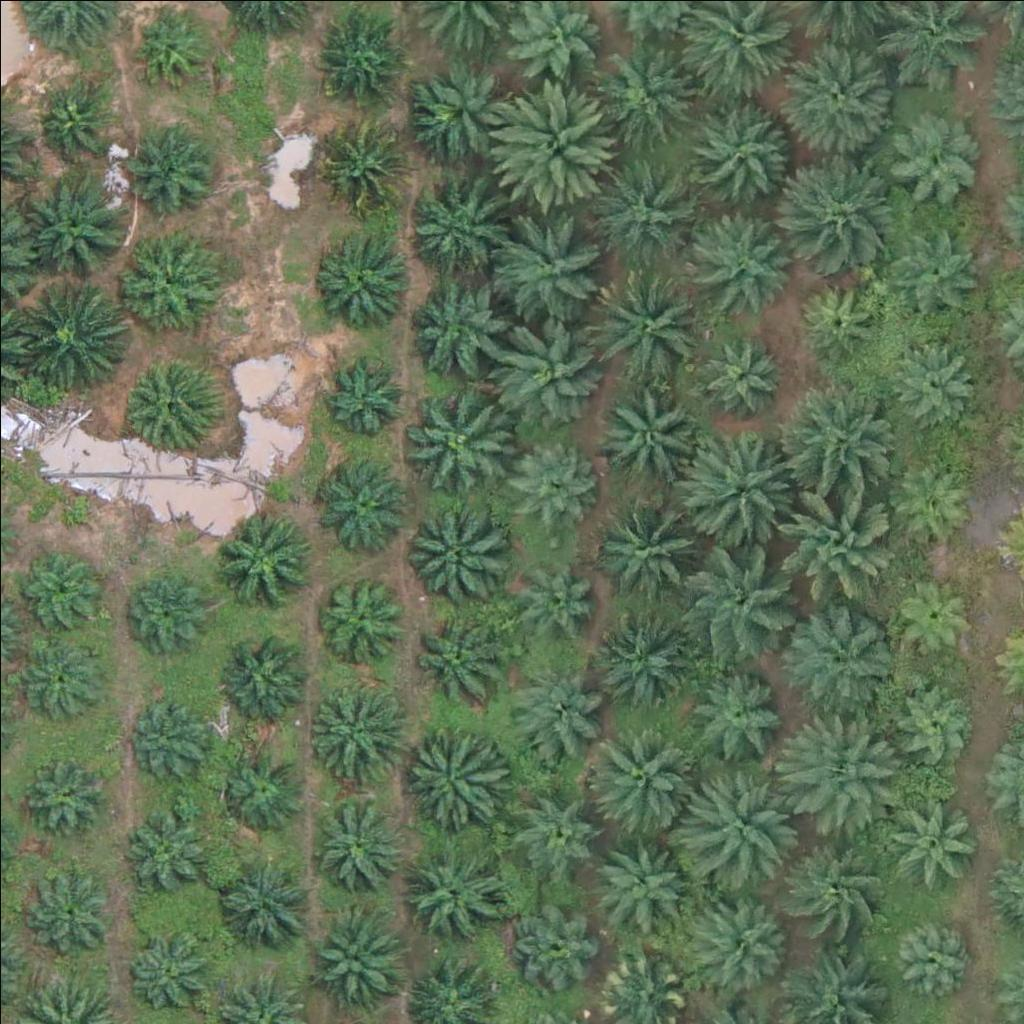Kelapa_Sawit: (485, 80, 610, 206), (495, 214, 608, 328), (594, 485, 707, 599), (593, 267, 706, 380), (589, 155, 702, 268), (682, 100, 795, 213), (785, 39, 898, 152), (16, 273, 129, 386), (401, 384, 514, 497), (677, 540, 790, 653), (778, 382, 891, 495), (488, 309, 601, 422), (396, 498, 508, 612), (679, 762, 791, 876), (773, 477, 885, 591), (690, 199, 802, 312), (788, 148, 900, 261), (582, 717, 694, 830), (683, 435, 795, 548), (786, 604, 898, 717), (786, 719, 898, 832), (782, 832, 894, 945), (28, 176, 128, 277), (308, 234, 408, 335), (401, 175, 501, 276), (598, 46, 698, 147), (210, 852, 310, 953), (214, 620, 314, 721), (213, 504, 313, 605), (304, 676, 404, 777), (404, 836, 504, 937), (404, 720, 504, 821), (595, 382, 695, 483), (589, 831, 689, 932), (690, 670, 790, 771), (879, 786, 979, 887), (117, 234, 217, 334), (406, 269, 506, 369), (416, 69, 516, 169), (883, 111, 983, 211), (119, 349, 219, 449), (304, 910, 404, 1010), (311, 449, 411, 549), (402, 605, 502, 705), (501, 661, 601, 761), (594, 605, 694, 705), (695, 889, 795, 989), (889, 912, 977, 1001), (132, 129, 220, 217), (321, 123, 409, 211), (795, 274, 883, 362), (127, 930, 215, 1018), (123, 802, 211, 890), (130, 700, 218, 788), (28, 752, 116, 840), (314, 567, 402, 655), (322, 354, 410, 442), (695, 329, 783, 417), (892, 573, 980, 661), (887, 450, 975, 538), (896, 223, 983, 312), (319, 15, 406, 103), (124, 565, 211, 653), (14, 548, 101, 636), (18, 633, 105, 721), (27, 869, 114, 957), (219, 747, 306, 835), (310, 803, 397, 891), (507, 901, 594, 989), (510, 784, 597, 872), (510, 540, 597, 628), (505, 435, 592, 523), (890, 675, 977, 763), (889, 341, 976, 429), (133, 10, 208, 86), (38, 85, 113, 160)
